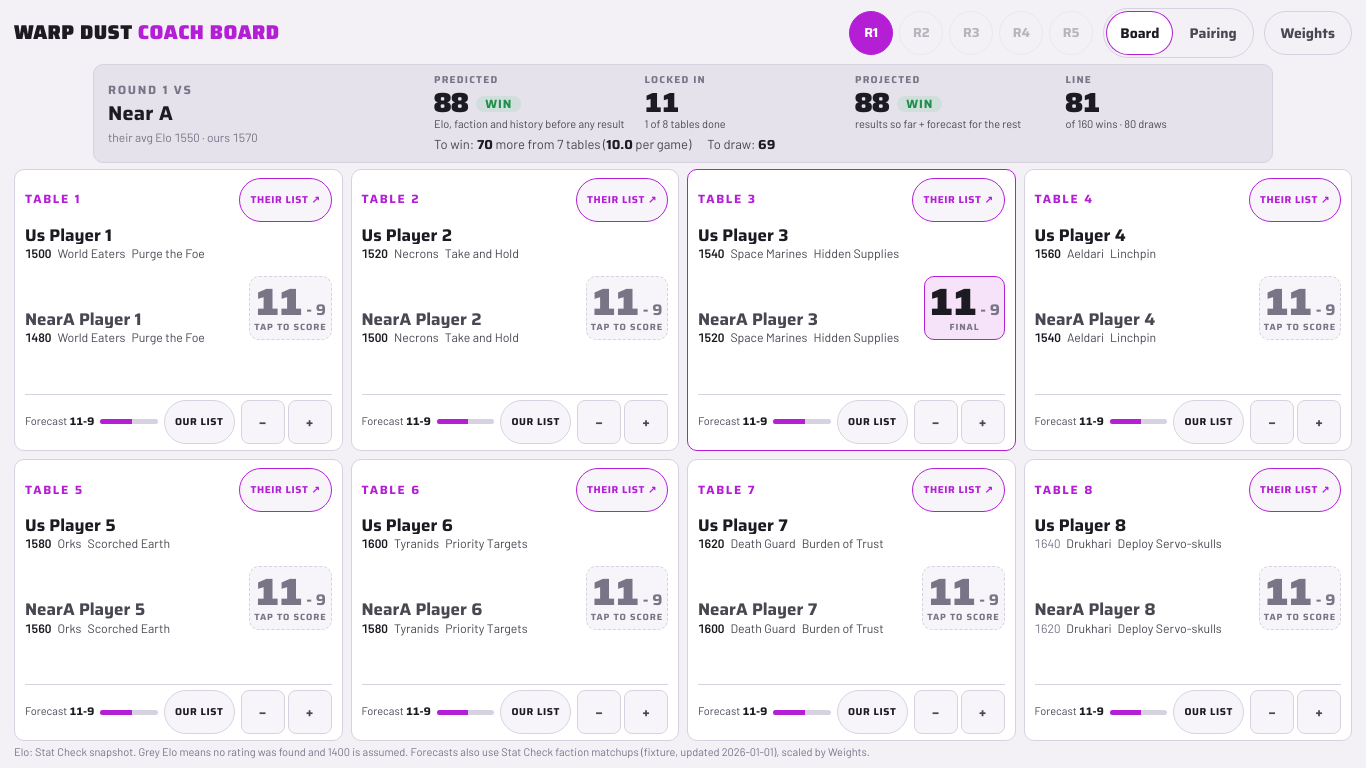
Test case: board score pad › clears a coach score with Clear score
This screenshot has width=1366, height=768.
Click the button "11 - 9 final". click: (964, 308)
box: [924, 276, 1004, 340]
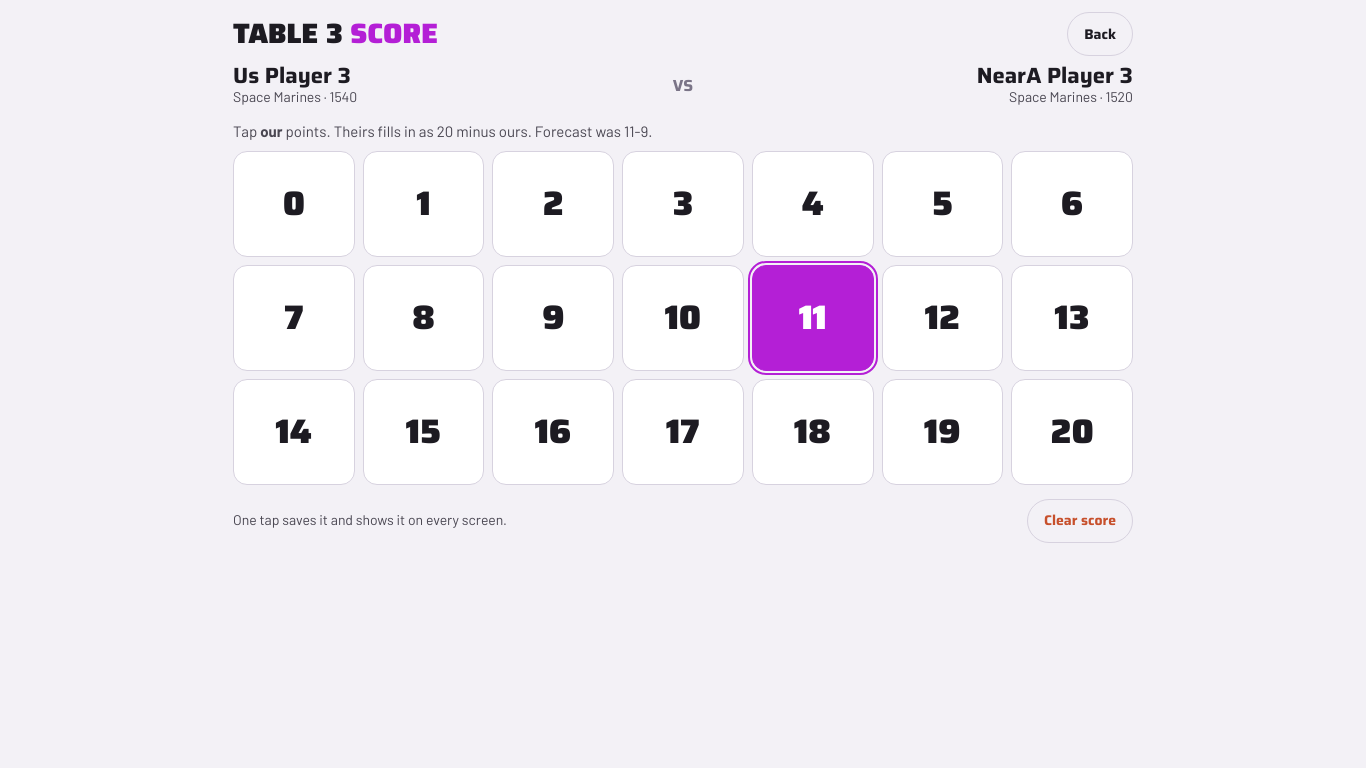
Click the button "Clear score". click: (1080, 521)
box: [1027, 499, 1133, 543]
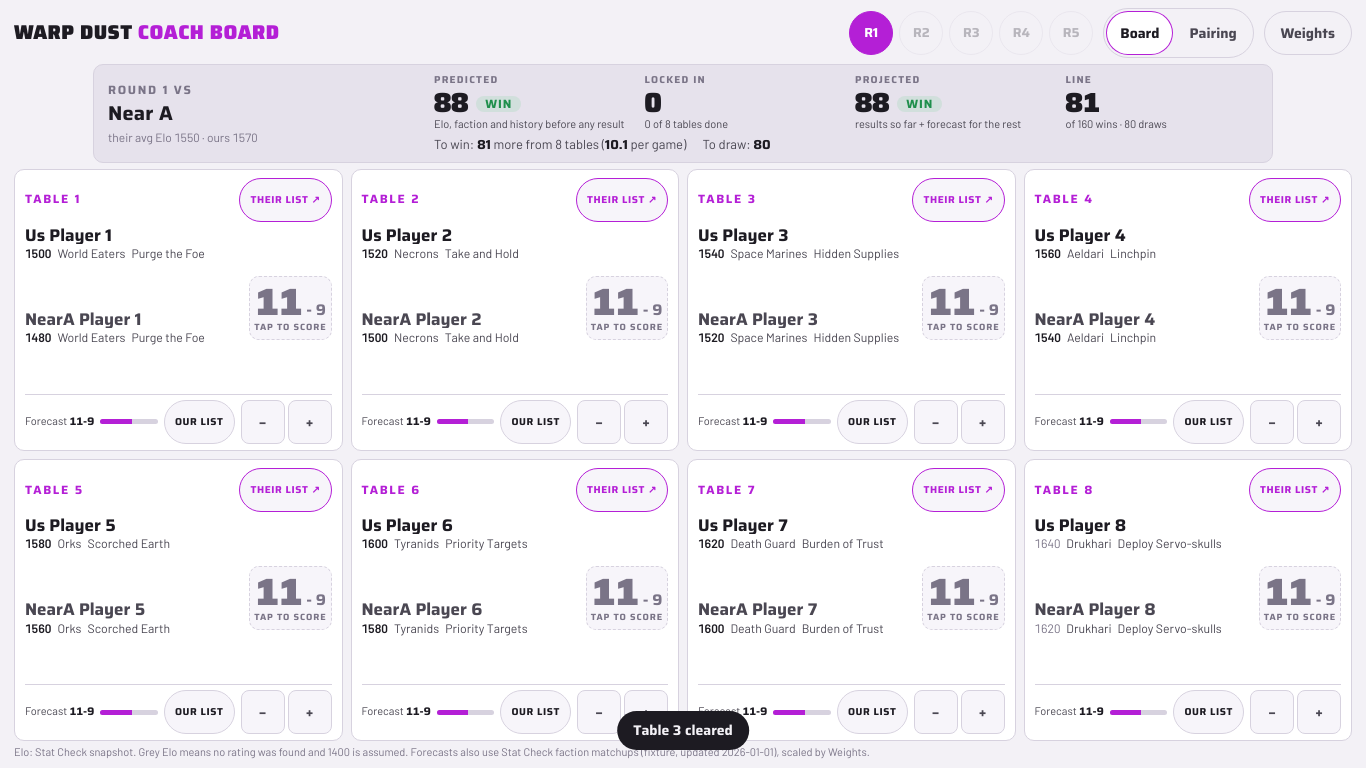
expect the text "Table 3 cleared" is shown: met, box [617, 711, 749, 750]
